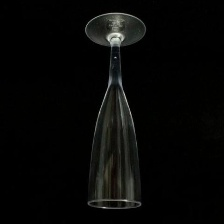glass: (79, 9, 152, 214)
